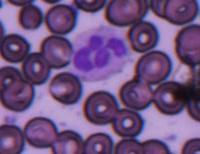N: (70, 24, 130, 81)
